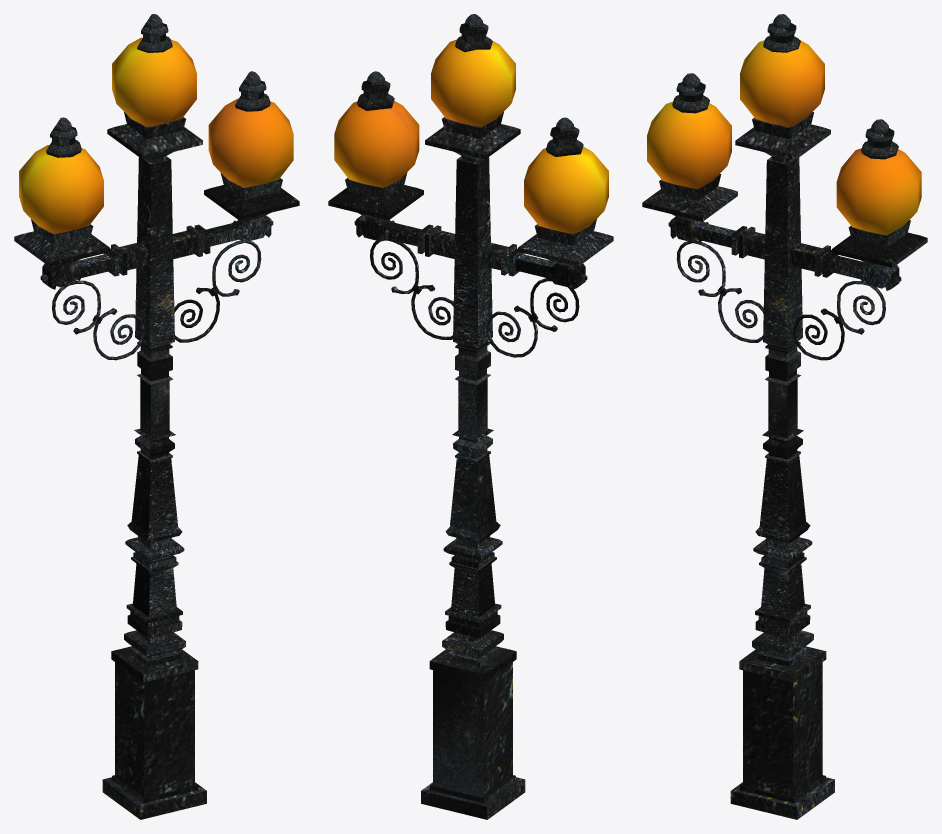
File: textured lamp 11.fbx
3 views of the same model, side by side, from view 1: azimuth 30°, elevation 25°; view 2: azimuth 150°, elevation 25°; view 3: azimuth 330°, elevation 25° (orthographic).
Parts seen in each view (by area): view 1: Circle.010, Sphere.002; view 2: Circle.010, Sphere.002; view 3: Circle.010, Sphere.002.
Boxes of the visible parts, x1,y1,x2,y2 form: Circle.010: (14, 14, 299, 819); Sphere.002: (19, 37, 293, 234); Circle.010: (328, 14, 613, 819); Sphere.002: (334, 39, 608, 234); Circle.010: (642, 14, 927, 819); Sphere.002: (647, 40, 921, 235).
Bounding box in the file's own units: 165 × 463 × 47.15.
2 materials, 2 textured.
